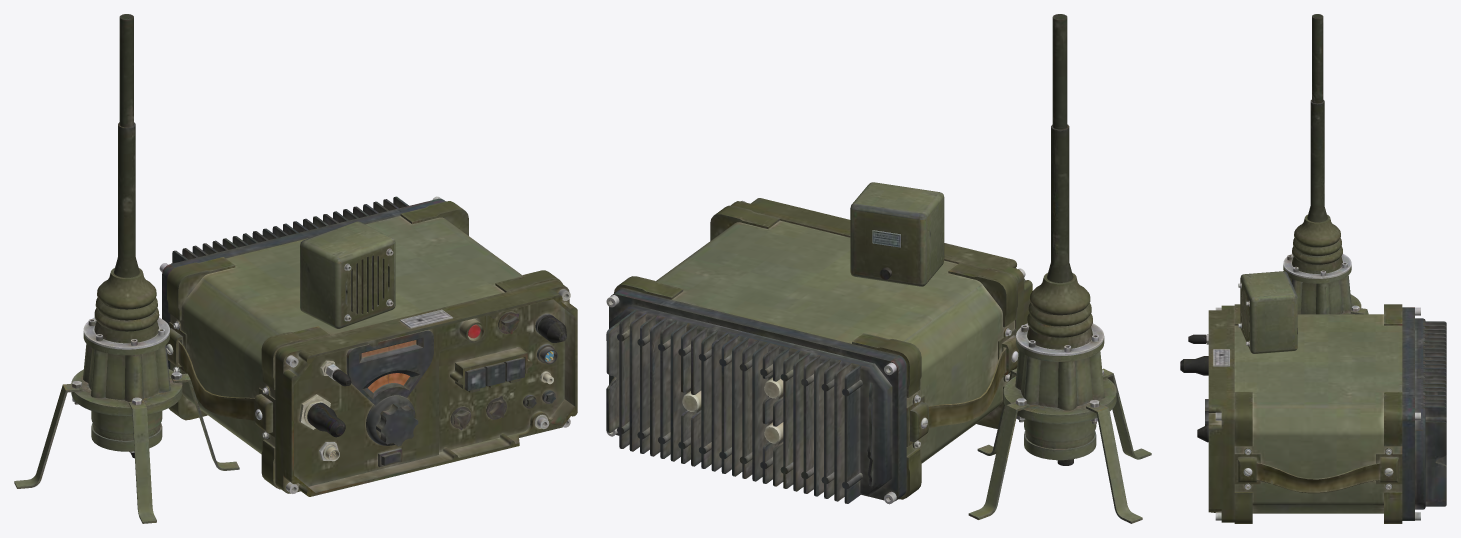
The model's file is radio.glb.
The picture shows the model from 3 angles, left to right: view 1: azimuth 30°, elevation 25°; view 2: azimuth 150°, elevation 25°; view 3: azimuth 270°, elevation 25°; orthographic projection. The views are drawn at different scales.
Parts seen in each view (by area): view 1: vintage_radio_transceiver.001, vintage_radio_transceiver_antenna.001, vintage_radio_transceiver_speaker.001, vintage_radio_transceiver_dial.001, vintage_radio_transceiver_antenna_plug_a.001; view 2: vintage_radio_transceiver.001, vintage_radio_transceiver_antenna.001, vintage_radio_transceiver_speaker.001; view 3: vintage_radio_transceiver.001, vintage_radio_transceiver_antenna.001, vintage_radio_transceiver_speaker.001, vintage_radio_transceiver_antenna_plug_a.001.
Boxes of the visible parts, <box> form: vintage_radio_transceiver.001: <box>159,196,577,496</box>; vintage_radio_transceiver_antenna.001: <box>14,14,239,523</box>; vintage_radio_transceiver_speaker.001: <box>300,221,395,328</box>; vintage_radio_transceiver_dial.001: <box>366,373,418,446</box>; vintage_radio_transceiver_antenna_plug_a.001: <box>307,402,345,437</box>; vintage_radio_transceiver.001: <box>606,198,1032,504</box>; vintage_radio_transceiver_antenna.001: <box>968,14,1151,523</box>; vintage_radio_transceiver_speaker.001: <box>850,182,944,286</box>; vintage_radio_transceiver.001: <box>1208,304,1446,523</box>; vintage_radio_transceiver_antenna.001: <box>1283,14,1368,314</box>; vintage_radio_transceiver_speaker.001: <box>1238,271,1297,353</box>; vintage_radio_transceiver_antenna_plug_a.001: <box>1180,356,1208,375</box>.
Size of the model in its own units: 0.4862 by 0.4329 by 0.2883.
2 materials, 2 textured.
